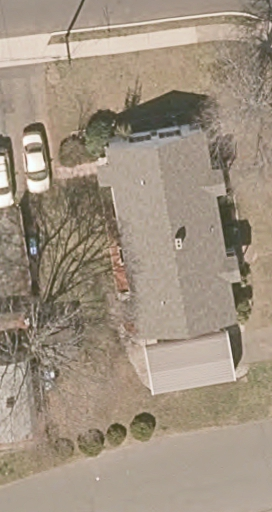DT: (60, 35, 79, 64)
